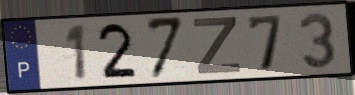1: (60, 22, 88, 83)
2: (96, 21, 139, 81)
3: (296, 10, 337, 72)
7: (146, 15, 187, 83), (246, 14, 286, 72)
Z: (191, 16, 244, 77)
